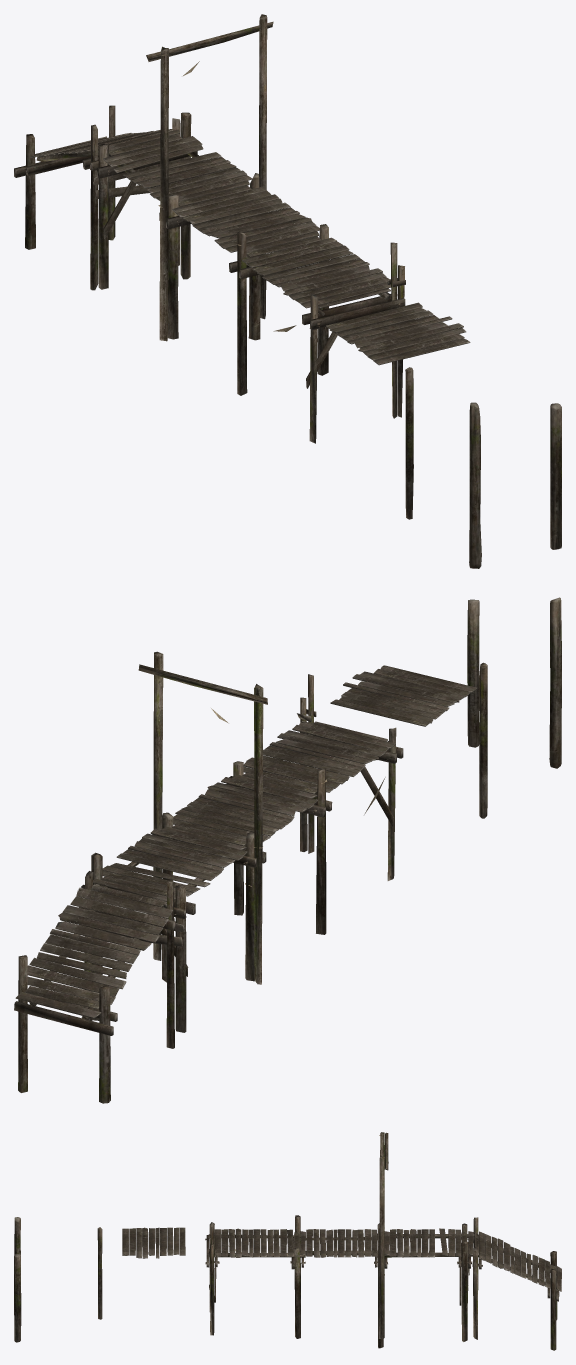
Rendered from modular_wooden_pier.glb.
3 views of the same model, one above another, from view 1: azimuth 30°, elevation 25°; view 2: azimuth 150°, elevation 25°; view 3: azimuth 270°, elevation 25° (orthographic). The views are drawn at different scales.
Parts seen in each view (by area): view 1: modular_wooden_pier_planks, modular_wooden_pier_section_01, modular_wooden_pier_poles; view 2: modular_wooden_pier_planks, modular_wooden_pier_section_01, modular_wooden_pier_poles; view 3: modular_wooden_pier_planks, modular_wooden_pier_section_01, modular_wooden_pier_poles.
Boxes of the visible parts, x1,y1,x2,y2 form: modular_wooden_pier_planks: [14, 53, 470, 388]; modular_wooden_pier_section_01: [25, 14, 404, 443]; modular_wooden_pier_poles: [405, 367, 561, 568]; modular_wooden_pier_planks: [14, 665, 477, 1035]; modular_wooden_pier_section_01: [18, 651, 396, 1103]; modular_wooden_pier_poles: [467, 597, 561, 818]; modular_wooden_pier_planks: [122, 1135, 561, 1305]; modular_wooden_pier_section_01: [205, 1132, 559, 1350]; modular_wooden_pier_poles: [14, 1217, 102, 1342].
Size of the model in its own units: 3.06 by 7.5 by 19.02.
2 materials, 2 textured.
